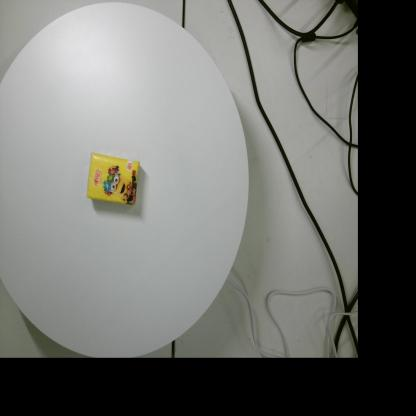Tissue: (87, 152, 140, 205)
